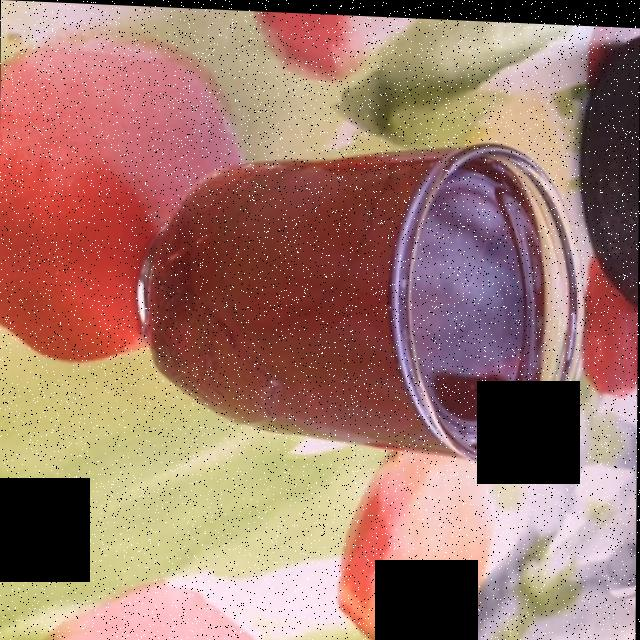herbal-tea: (145, 148, 554, 454)
